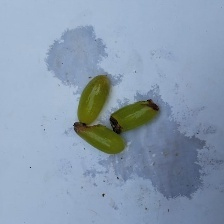grapes: (48, 2, 220, 201)
